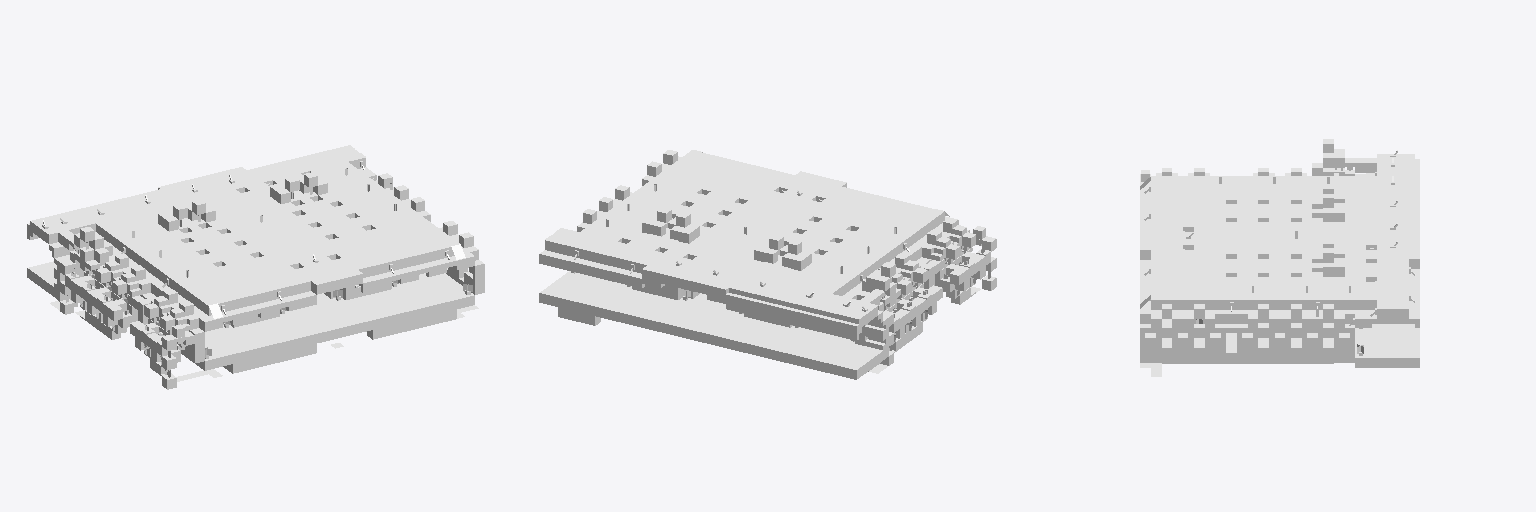
The model's file is ethoslab.obj.
3 renders of one model, left to right at view 1: azimuth 30°, elevation 25°; view 2: azimuth 150°, elevation 25°; view 3: azimuth 270°, elevation 25°, orthographic.
Parts seen in each view (by area): view 1: Etho's_LP_Ep550__-352_30_236_to_-319_39_261; view 2: Etho's_LP_Ep550__-352_30_236_to_-319_39_261; view 3: Etho's_LP_Ep550__-352_30_236_to_-319_39_261.
Part boxes in pixels (x1,y1,x2,y2): Etho's_LP_Ep550__-352_30_236_to_-319_39_261: (27, 145, 484, 389); Etho's_LP_Ep550__-352_30_236_to_-319_39_261: (539, 150, 996, 379); Etho's_LP_Ep550__-352_30_236_to_-319_39_261: (1140, 139, 1419, 376).
Size of the model in its own units: 34 by 9 by 26.